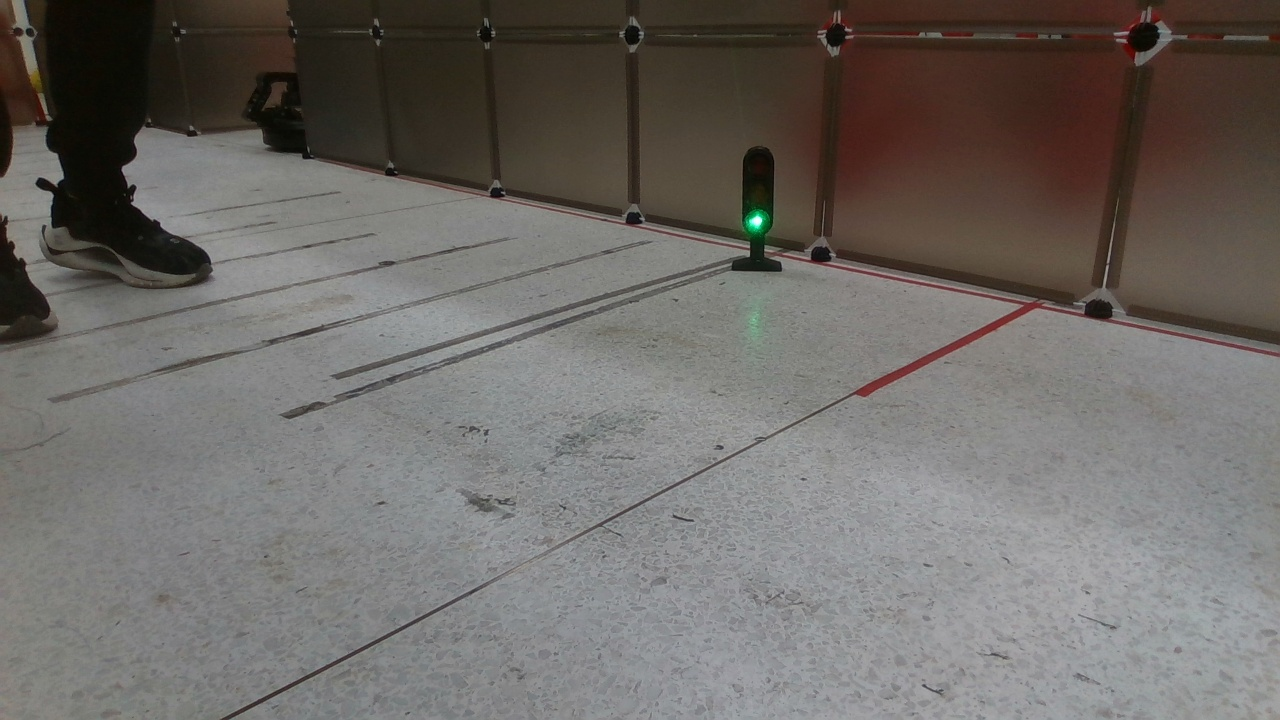Green traffic light: (730, 144, 793, 273)
